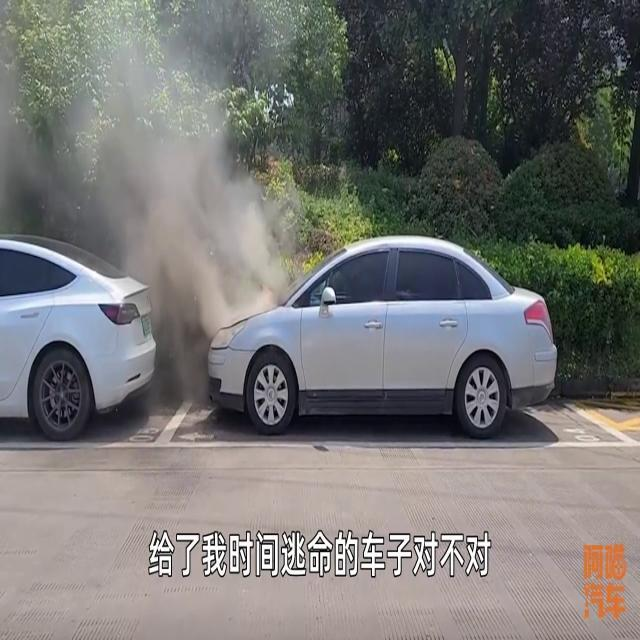Smoke: (0, 2, 298, 386)
